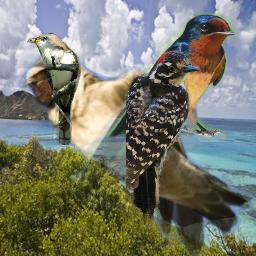Cuckoo: (27, 33, 81, 145)
Swallow: (19, 48, 255, 256), (106, 13, 235, 142)
Woodpecker: (126, 49, 200, 221)
